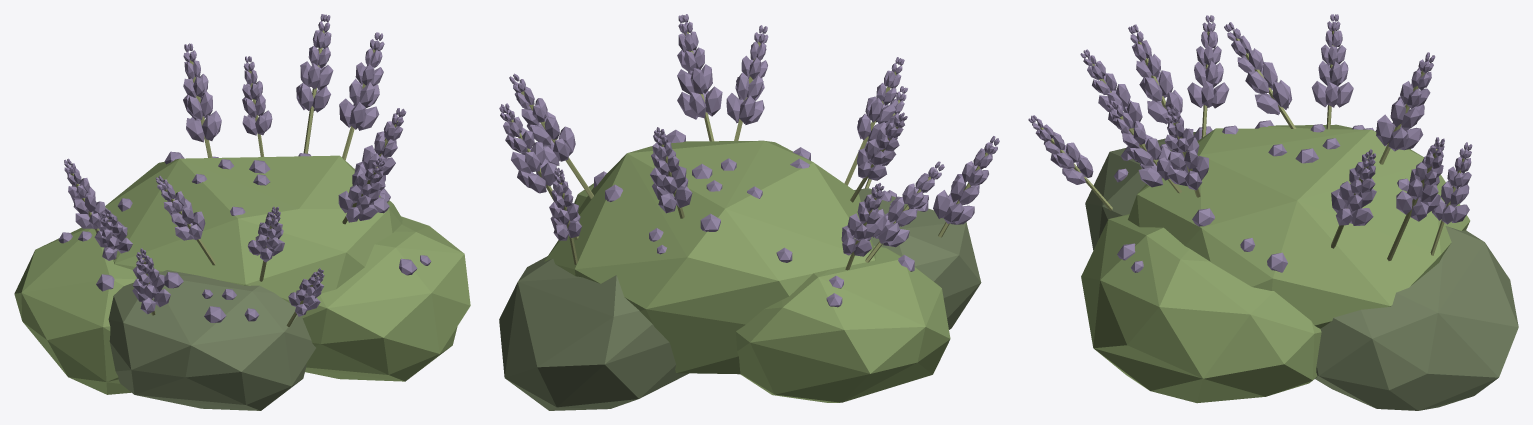
Rendered from Lavender Harvested.fbx.
The picture shows the model from 3 angles, left to right: view 1: azimuth 30°, elevation 25°; view 2: azimuth 150°, elevation 25°; view 3: azimuth 270°, elevation 25°; orthographic projection. The views are drawn at different scales.
Visible parts, largest first — view 1: pPlatonic25; view 2: pPlatonic25; view 3: pPlatonic25.
Boxes of the visible parts, bbox=[...] form: pPlatonic25: bbox=[14, 14, 470, 410]; pPlatonic25: bbox=[499, 14, 999, 410]; pPlatonic25: bbox=[1028, 14, 1518, 410].
Size of the model in its own units: 1.11 by 0.7689 by 1.13.
